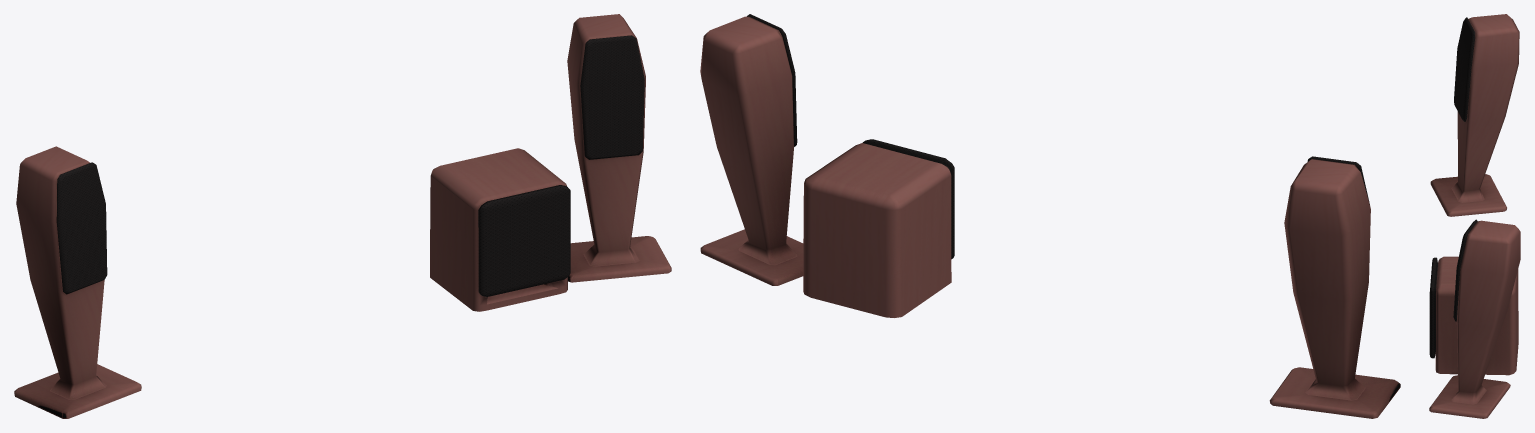
File: speaker_set.fbx
The picture shows the model from 3 angles, left to right: view 1: azimuth 30°, elevation 25°; view 2: azimuth 150°, elevation 25°; view 3: azimuth 270°, elevation 25°; orthographic projection. The views are drawn at different scales.
Parts seen in each view (by area): view 1: Speaker_BOX_L, Sub_BOX, Speaker_BOX_R; view 2: Sub_BOX, Speaker_BOX_R, Speaker_BOX_L; view 3: Speaker_BOX_L, Speaker_BOX_R, Sub_BOX.
Boxes of the visible parts, <box> form: Speaker_BOX_L: <box>14,146,141,418</box>; Sub_BOX: <box>430,148,570,311</box>; Speaker_BOX_R: <box>567,14,671,282</box>; Sub_BOX: <box>803,139,954,317</box>; Speaker_BOX_R: <box>700,14,803,285</box>; Speaker_BOX_L: <box>1269,156,1400,418</box>; Speaker_BOX_L: <box>1430,14,1519,216</box>; Speaker_BOX_R: <box>1429,219,1520,418</box>; Sub_BOX: <box>1429,256,1518,375</box>.
Bounding box in the file's own units: 3.68 × 1.23 × 0.5911.
1 material, 1 textured.
